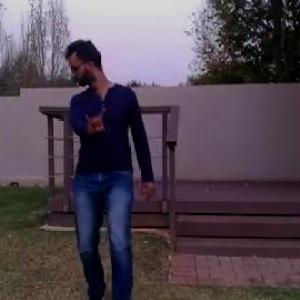takeoff-hand: (81, 101, 112, 138)
